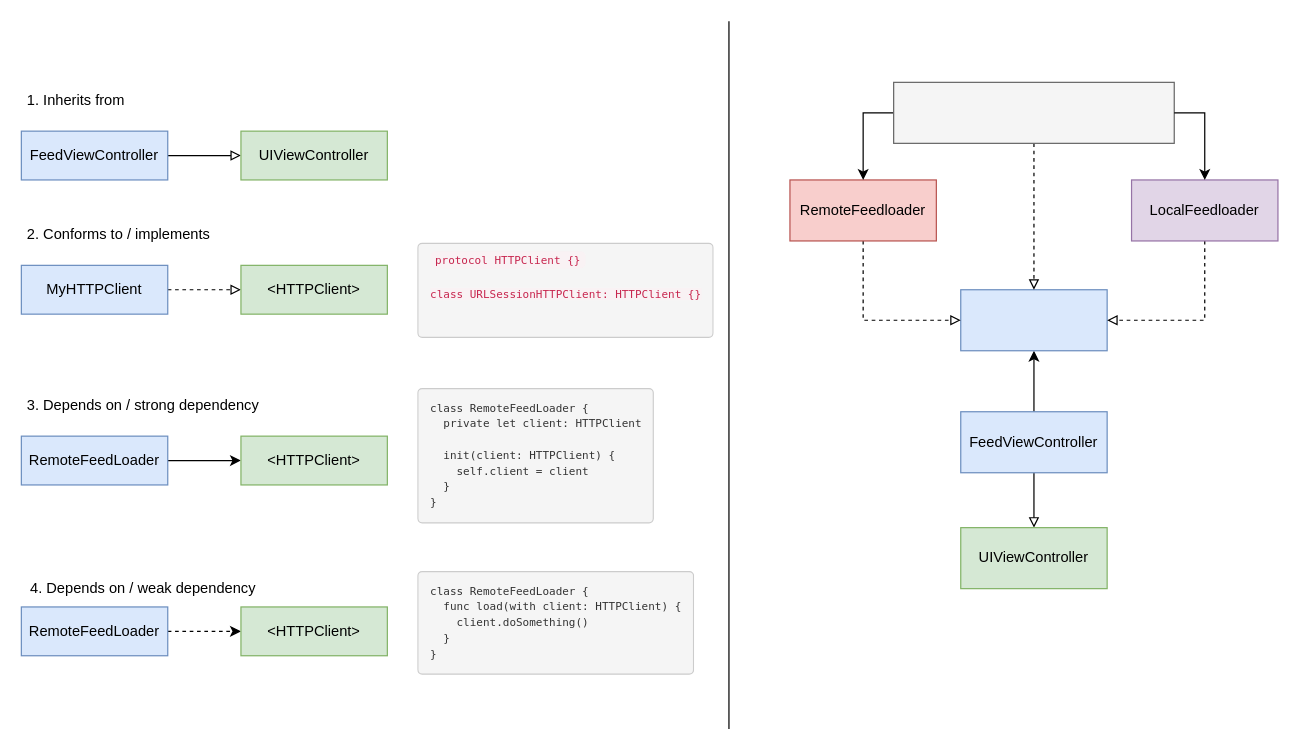
This 1299x752 diagram has some shape labels left out. The centre of each missing label's shape, as x and y in pixels:
"<FeedLoader>" goes at point (1033, 320).
"RemoteWithLocalFeedbackFeedloader" goes at point (1033, 112).
